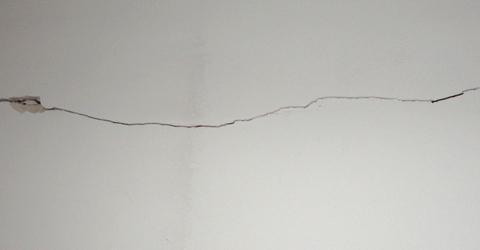crack: (0, 87, 480, 128)
damage: (10, 96, 45, 113)
